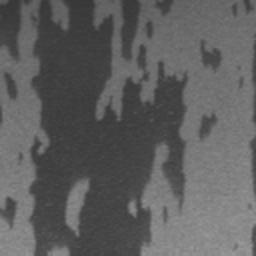Red iron sheet: (0, 0, 218, 255), (200, 38, 220, 72), (251, 35, 256, 124), (232, 0, 253, 19), (250, 138, 256, 193), (252, 227, 256, 256)
